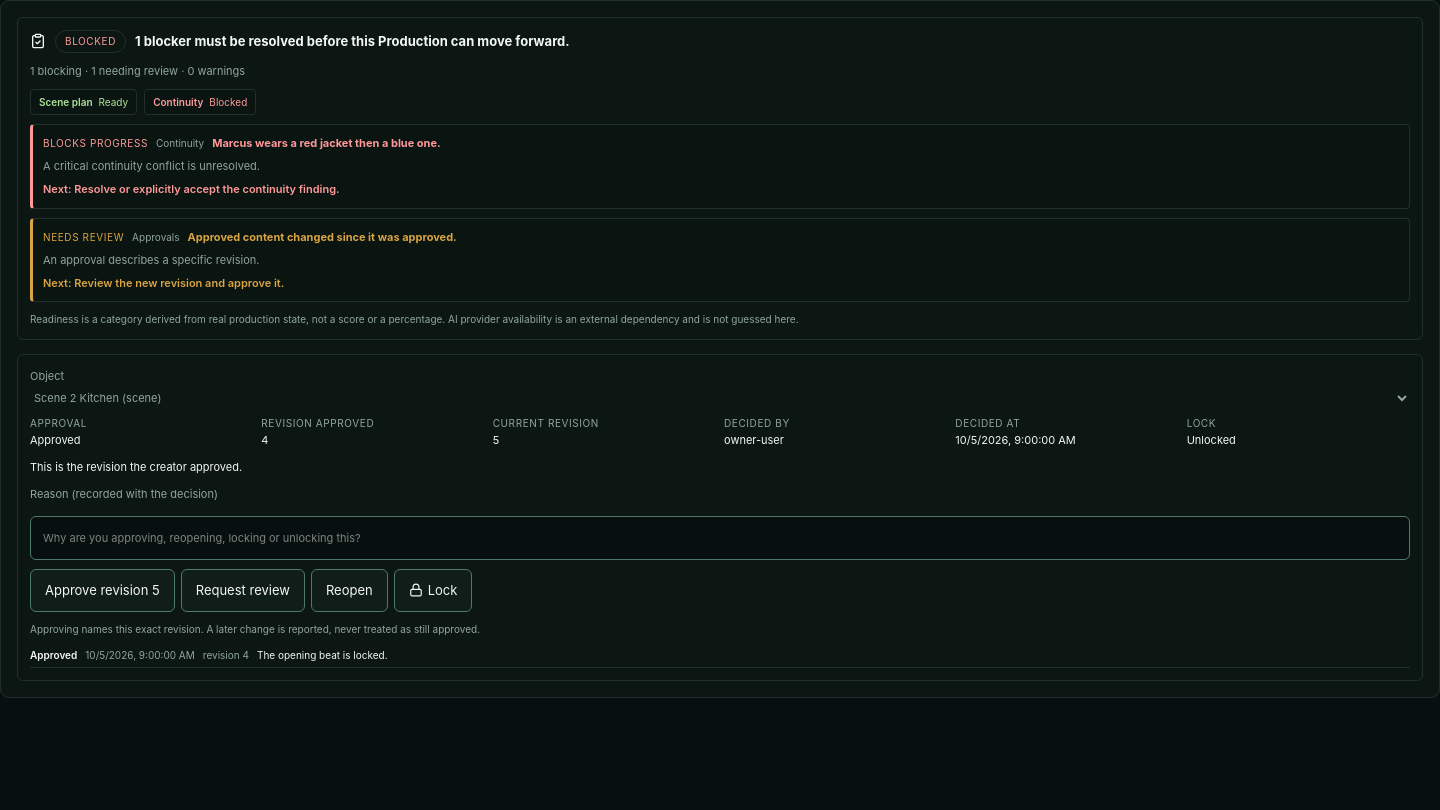
Scenario: approval state › locks without requiring a reason and shows the recorded outcome
Step 1. Click the button "Lock" → (433, 590), box [394,569,472,612]
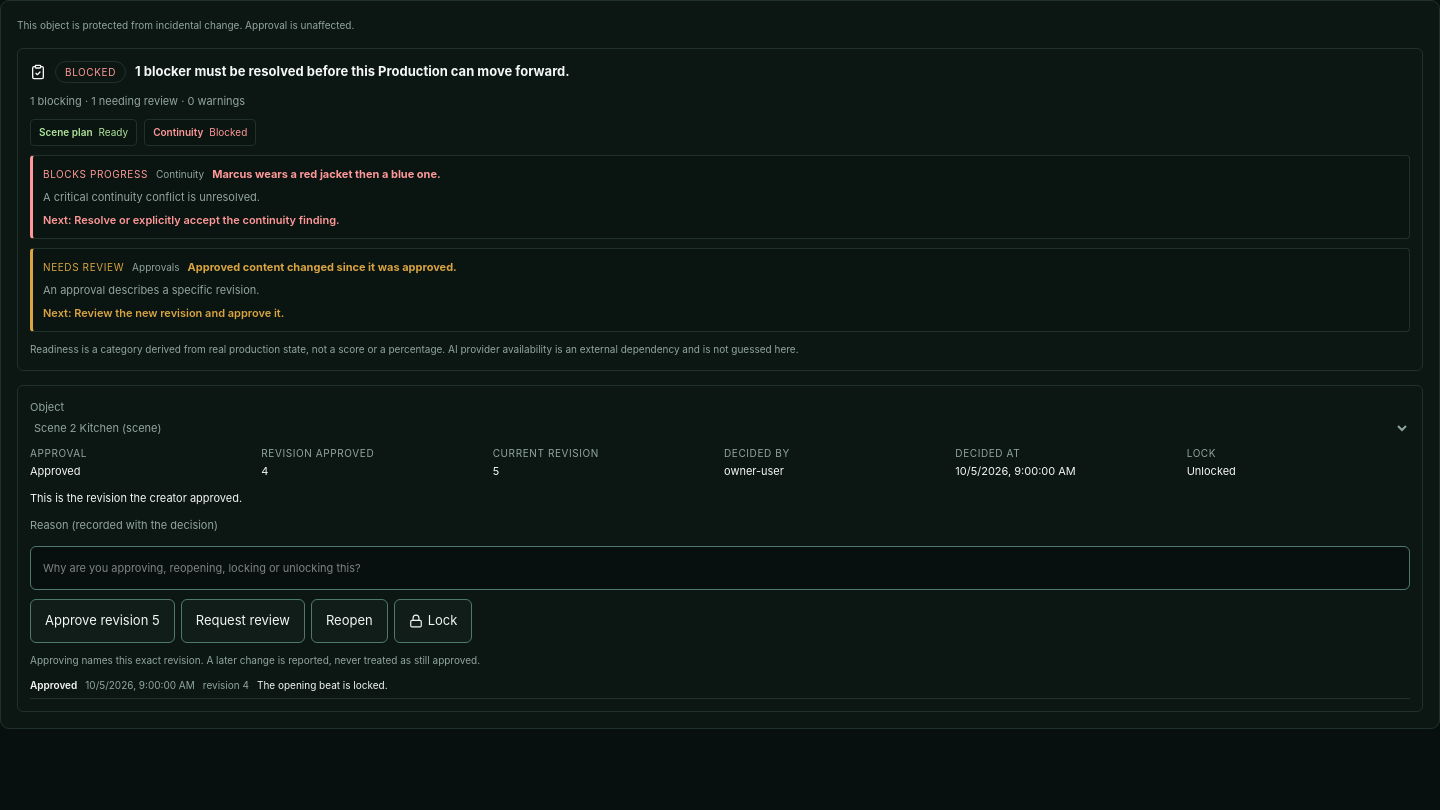
Result: the text "This object is protected from incidental change. Approval is unaffected." is shown at [17,19,354,31]
